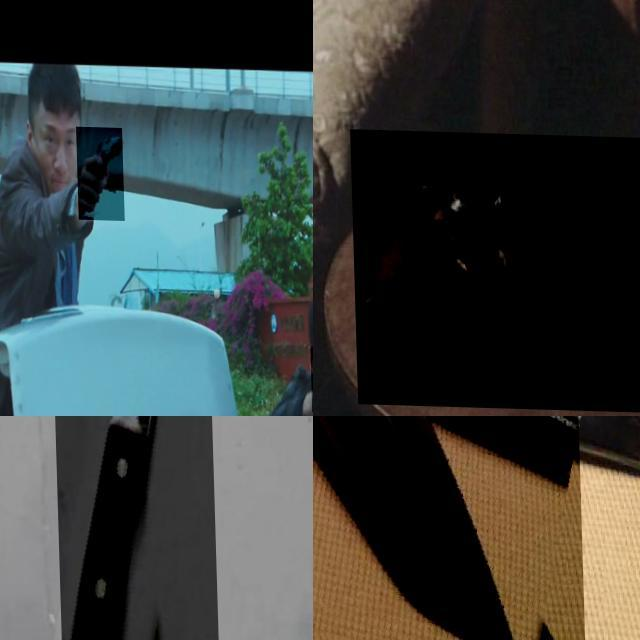-: (313, 416, 582, 640), (47, 416, 218, 640)
gun-knife-thesis - v11 Yolov5 augmented: (348, 127, 640, 411), (74, 124, 124, 218)
